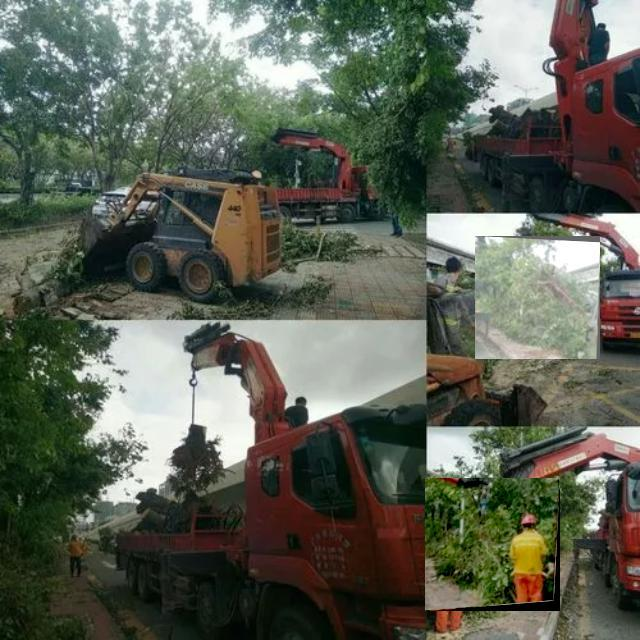fallen_tree: (425, 478, 561, 612), (475, 236, 601, 360)
